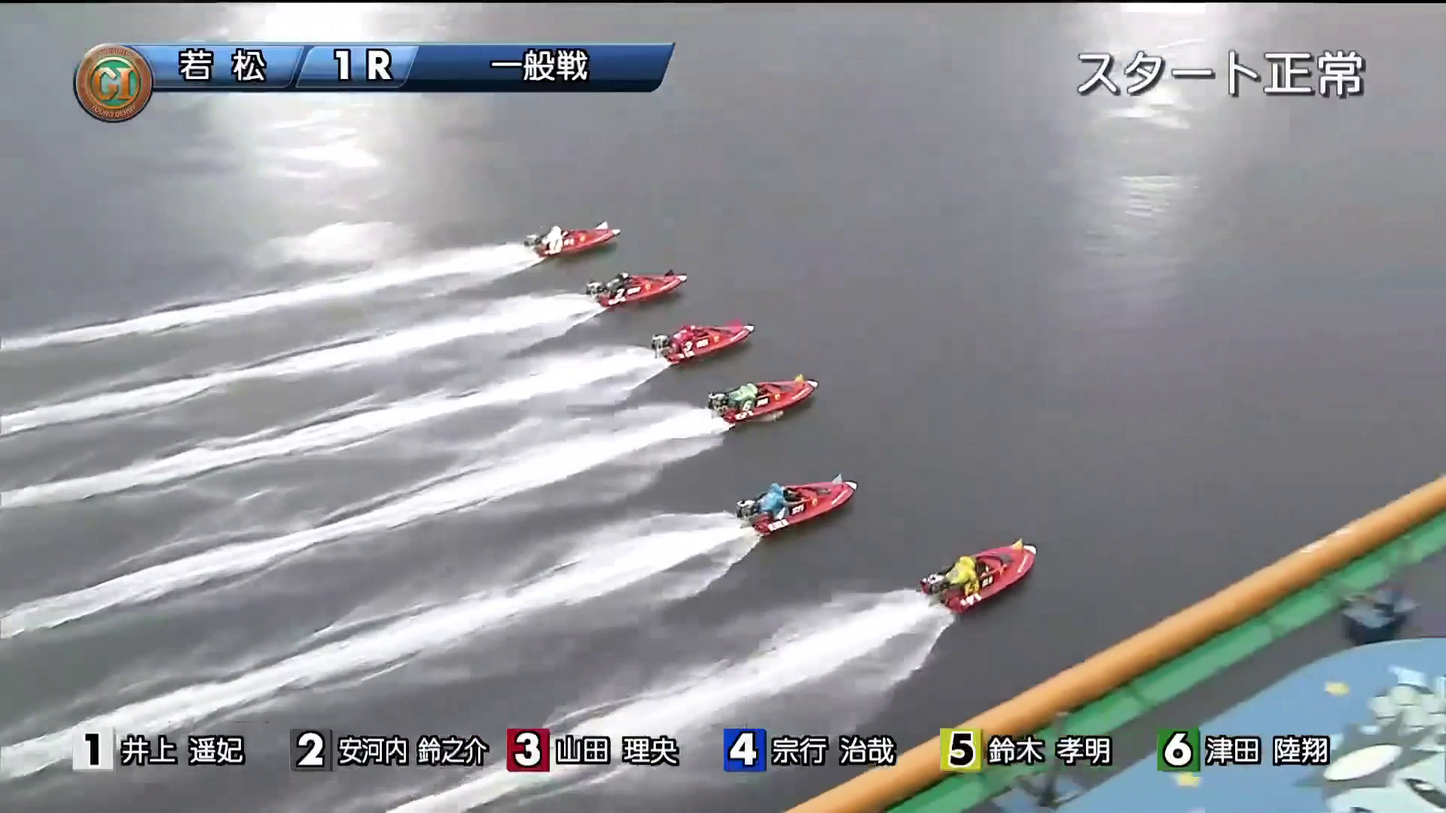１号艇: (529, 221, 605, 261)
２号艇: (580, 266, 675, 304)
３号艇: (641, 317, 747, 358)
４号艇: (703, 381, 807, 424)
５号艇: (731, 478, 851, 533)
６号艇: (901, 550, 1026, 607)
